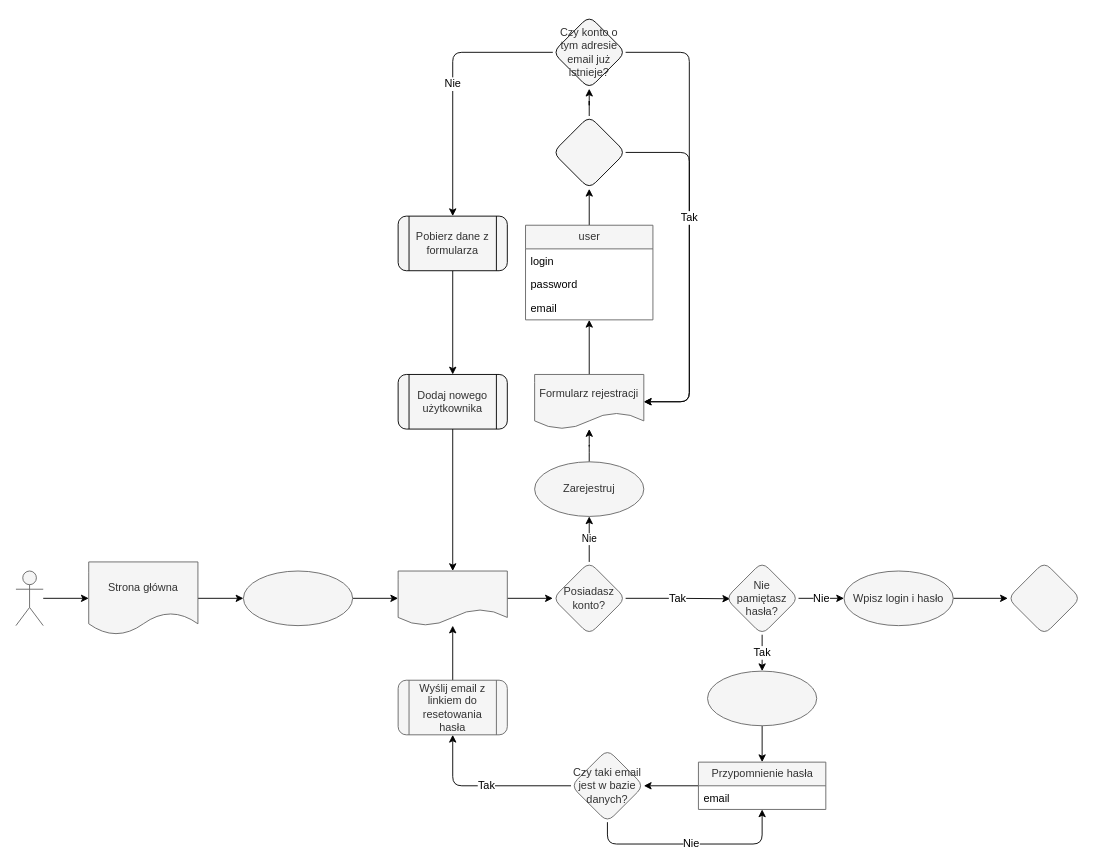
This 1097x867 diagram has some shape labels left out. Each missing label, with the centre of its shape:
"Czy nazwa użytkownika jest już zajęa?" goes at (x=589, y=152).
"Formularz logowania" goes at (x=452, y=598).
"Gość" goes at (x=29, y=598).
"Sprawdź czy użytkownik istnieje" goes at (x=1044, y=598).
"Zaloguj" goes at (x=298, y=598).
"Zresetuj hasło" goes at (x=762, y=698).
